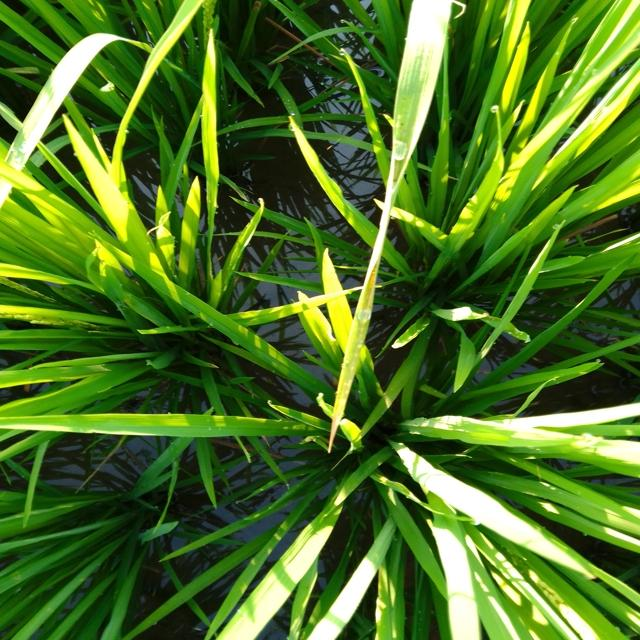brown plant hopper: (331, 104, 442, 386)
